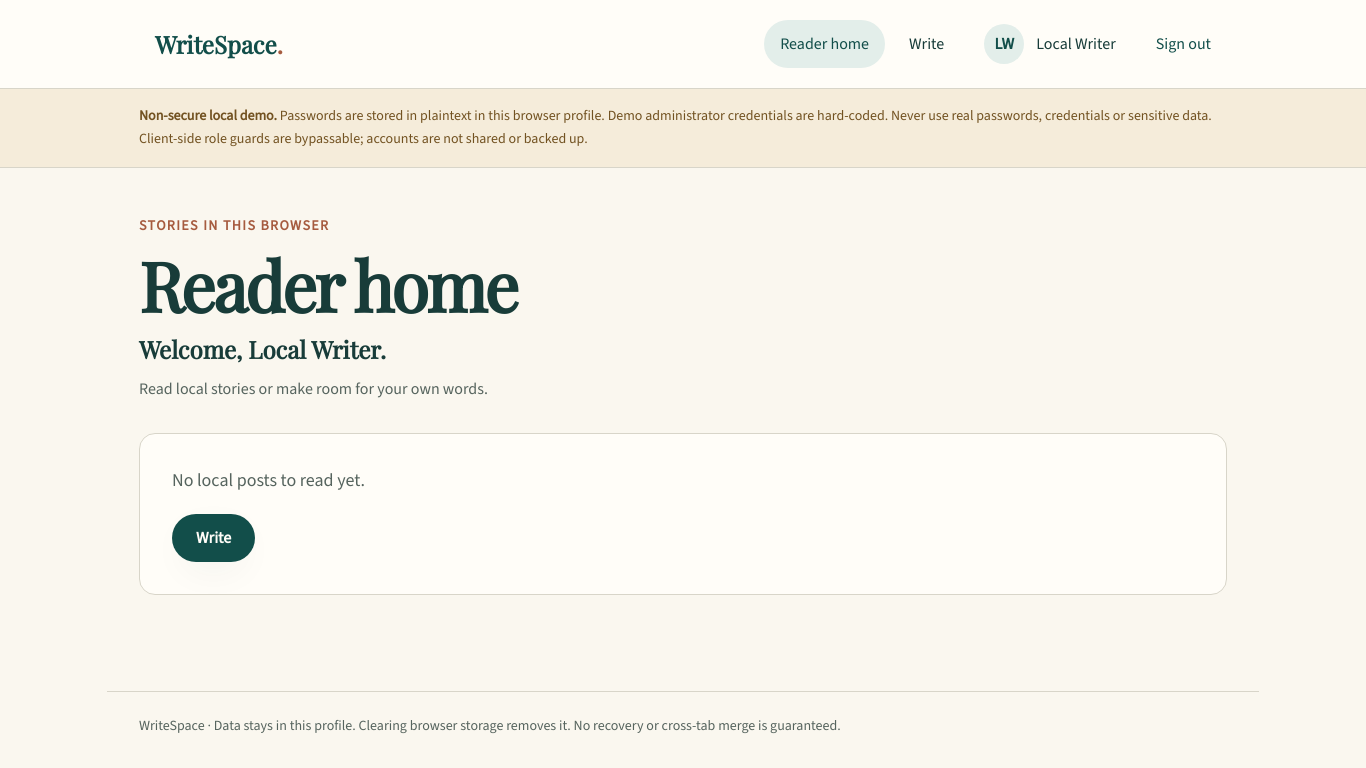
Test: post collection and reader components › shows a non-mutating empty state whose Write action opens the real form
This screenshot has width=1366, height=768.
Expected: the text "No local posts to read yet." is shown, [172,468,365,492]
Click the link "Write" below "No local posts to read yet." at point(214, 538), box [172,514,255,562]
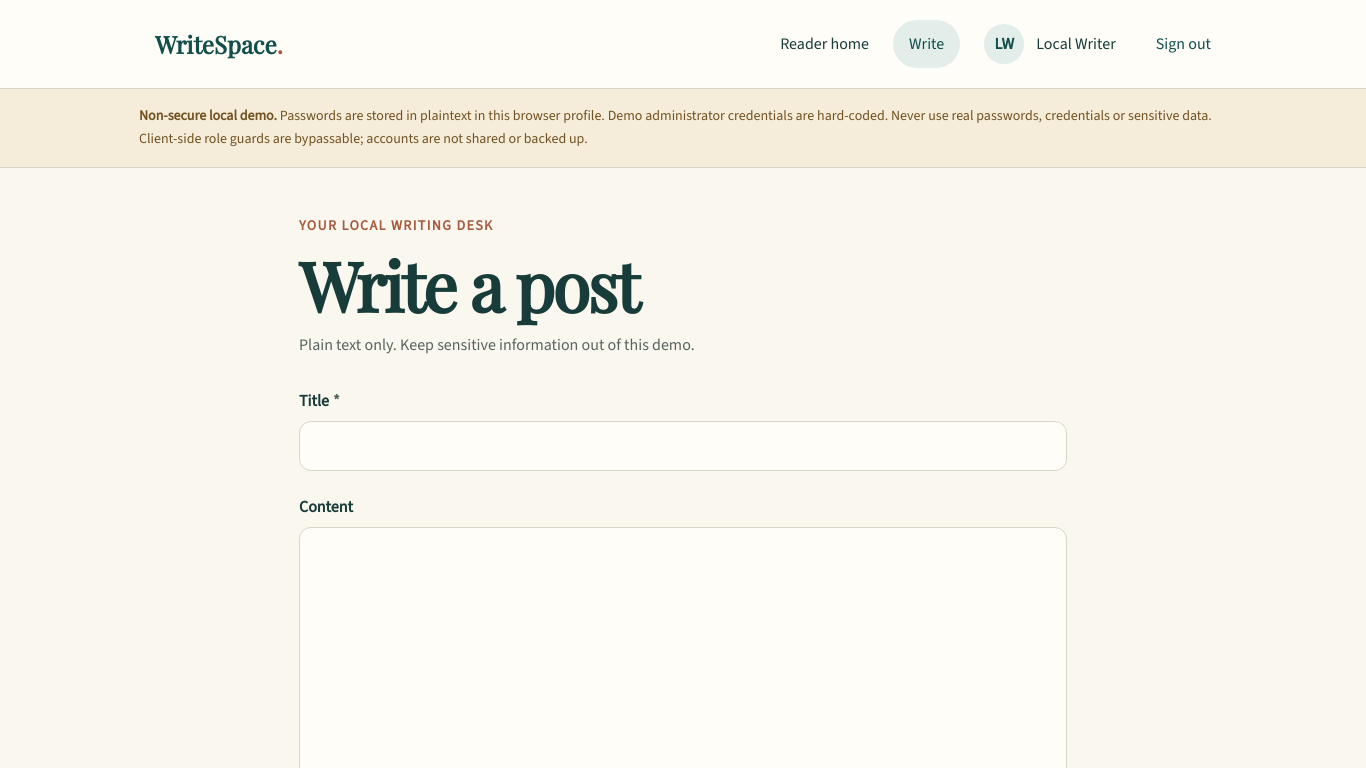
Expected: the heading "Write a post" is shown, [299,238,637,330]
